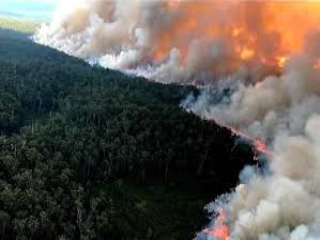smoke: (204, 67, 314, 234), (32, 5, 181, 79)
